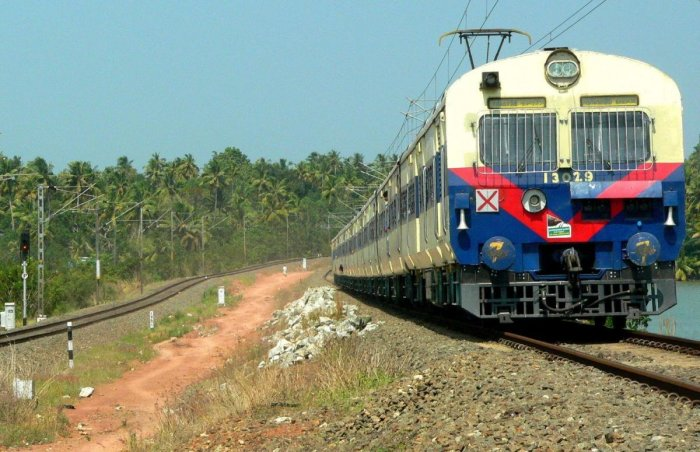train: (337, 37, 686, 336)
